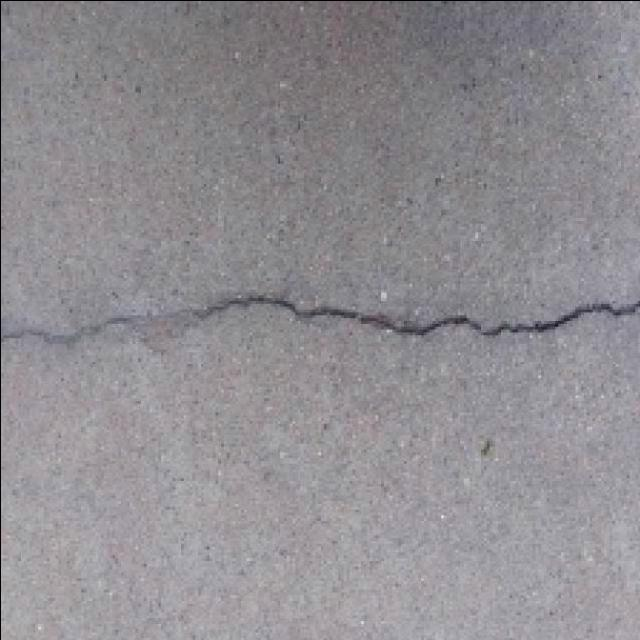SurfaceCrack: (0, 272, 632, 374)
